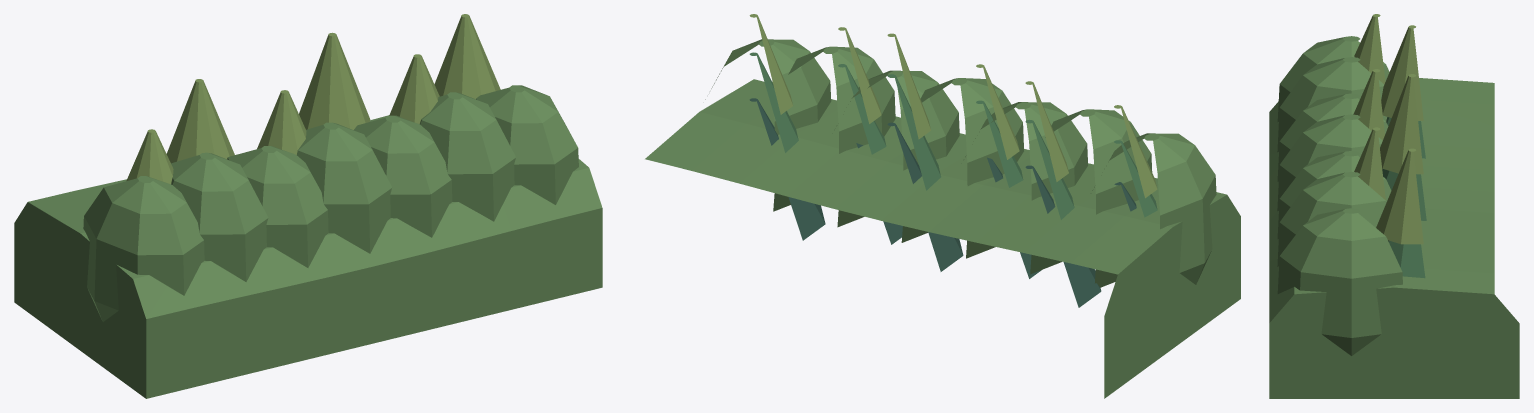
File: edge_forest_low.glb
3 renders of one model, left to right at view 1: azimuth 30°, elevation 25°; view 2: azimuth 150°, elevation 25°; view 3: azimuth 270°, elevation 25°, orthographic. The views are drawn at different scales.
Visible parts, largest first — view 1: Leaf_Mesh, LeafTip_Mesh; view 2: Leaf_Mesh, Pine_Mesh, LeafTip_Mesh, PineDark_Mesh; view 3: Leaf_Mesh, LeafTip_Mesh, Pine_Mesh.
Boxes of the visible parts, bbox=[...] form: Leaf_Mesh: bbox=[14, 85, 602, 398]; LeafTip_Mesh: bbox=[126, 14, 500, 184]; Leaf_Mesh: bbox=[645, 39, 1240, 398]; Pine_Mesh: bbox=[749, 52, 1157, 219]; LeafTip_Mesh: bbox=[749, 14, 1157, 198]; PineDark_Mesh: bbox=[749, 98, 1136, 307]; Leaf_Mesh: bbox=[1269, 36, 1519, 398]; LeafTip_Mesh: bbox=[1353, 14, 1423, 244]; Pine_Mesh: bbox=[1382, 117, 1426, 278].
Bounding box in the file's own units: 7.26 × 3.6 × 3.5.
